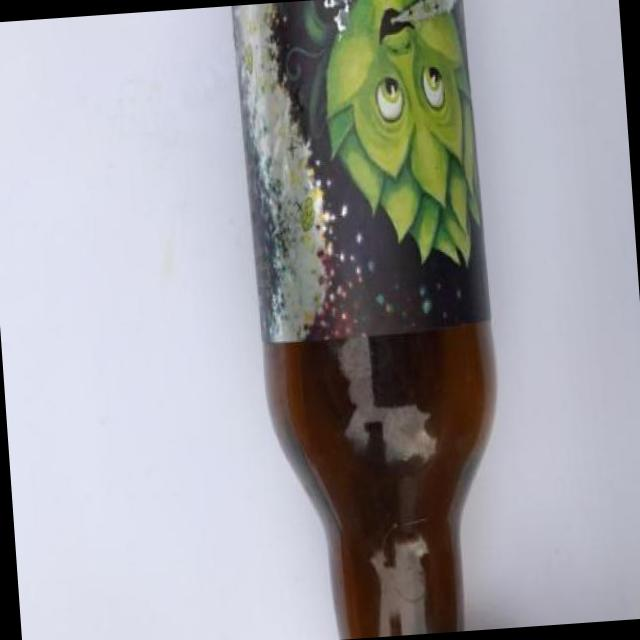BotolKaca: (228, 0, 516, 640)
